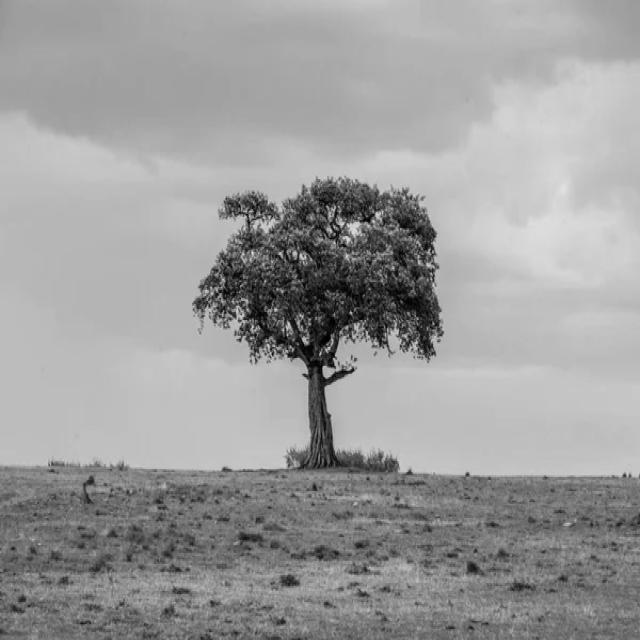Tree: (194, 178, 444, 468)
